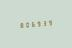eight: (17, 21, 22, 29)
nine: (48, 18, 53, 26), (36, 20, 41, 27)
six: (30, 20, 35, 28)
three: (42, 19, 47, 27)
zero: (23, 21, 28, 28)
